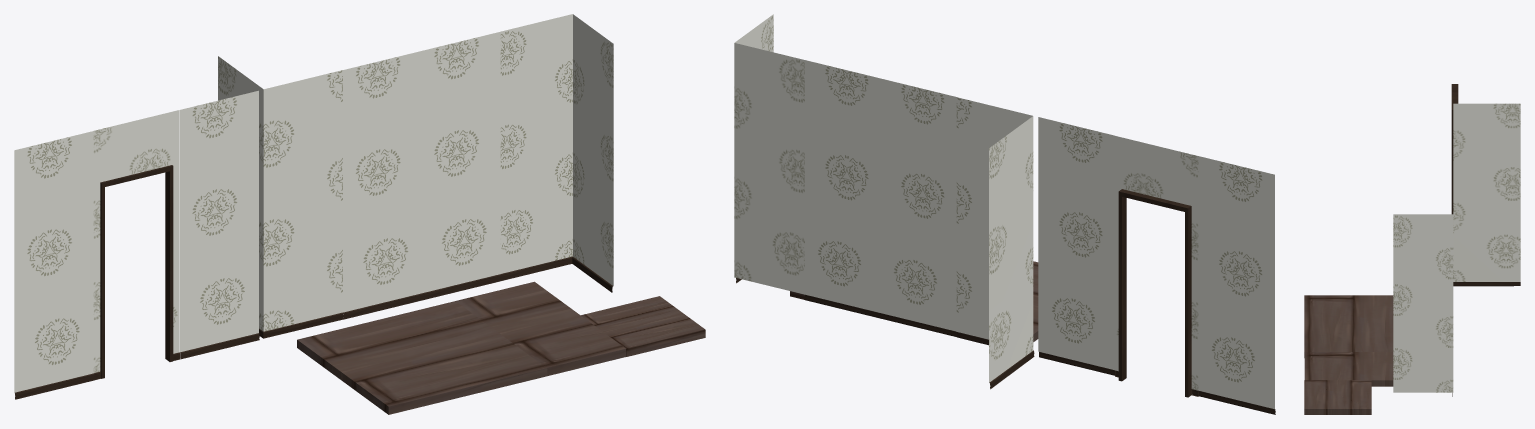
Rendered from modulos2.fbx.
3 renders of one model, left to right at view 1: azimuth 30°, elevation 25°; view 2: azimuth 150°, elevation 25°; view 3: azimuth 270°, elevation 25°, orthographic. The views are drawn at different scales.
Visible parts, largest first — view 1: polySurface40, polySurface43, pCube64, pCube65, pCube59, pCube60, pCube63, pCube61, polySurface42, pCube62, polySurface41; view 2: polySurface43, pCube65, pCube64, pCube60, pCube59, polySurface40, polySurface42, polySurface41; view 3: polySurface43, polySurface40, pCube63, pCube61, pCube62, polySurface41.
Boxes of the visible parts, x1=… form: polySurface40: x1=500, y1=14, x2=613, y2=292; polySurface43: x1=218, y1=56, x2=343, y2=338; pCube64: x1=179, y1=90, x2=259, y2=359; pCube65: x1=14, y1=131, x2=94, y2=399; pCube59: x1=421, y1=31, x2=501, y2=300; pCube60: x1=343, y1=51, x2=422, y2=319; pCube63: x1=297, y1=301, x2=547, y2=414; pCube61: x1=455, y1=281, x2=625, y2=375; polySurface42: x1=93, y1=110, x2=179, y2=380; pCube62: x1=581, y1=296, x2=705, y2=356; polySurface41: x1=100, y1=165, x2=173, y2=378; polySurface43: x1=956, y1=97, x2=1034, y2=389; pCube65: x1=1198, y1=156, x2=1275, y2=414; pCube64: x1=1038, y1=117, x2=1114, y2=375; pCube60: x1=880, y1=78, x2=957, y2=336; pCube59: x1=805, y1=60, x2=881, y2=318; polySurface40: x1=734, y1=14, x2=804, y2=294; polySurface42: x1=1115, y1=136, x2=1198, y2=396; polySurface41: x1=1118, y1=189, x2=1192, y2=397; polySurface43: x1=1453, y1=103, x2=1520, y2=286; polySurface40: x1=1393, y1=214, x2=1453, y2=396; pCube63: x1=1304, y1=295, x2=1393, y2=357; pCube61: x1=1304, y1=352, x2=1393, y2=386; pCube62: x1=1304, y1=380, x2=1371, y2=414; polySurface41: x1=1451, y1=84, x2=1458, y2=214.
Size of the model in its own units: 7.44 by 3.1 by 3.22.
